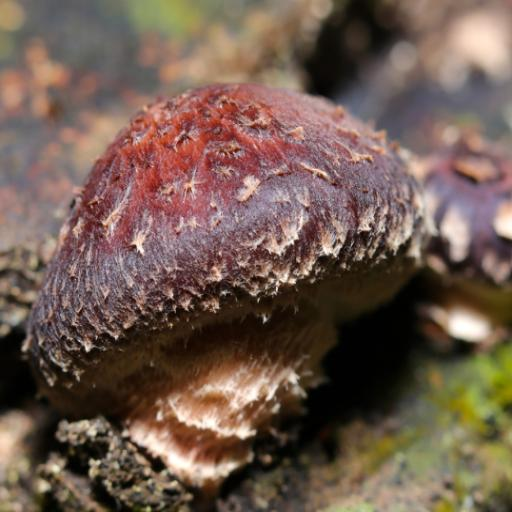Shiitake Mushroom: (0, 15, 470, 512)
